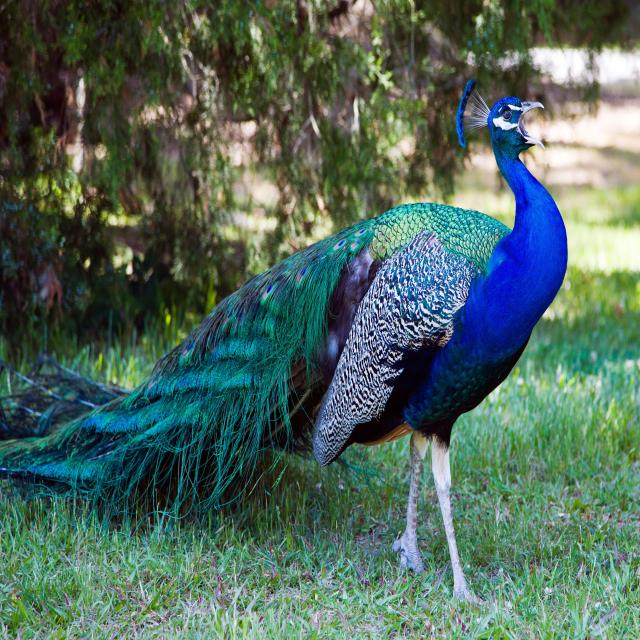peacock: (0, 77, 569, 592)
